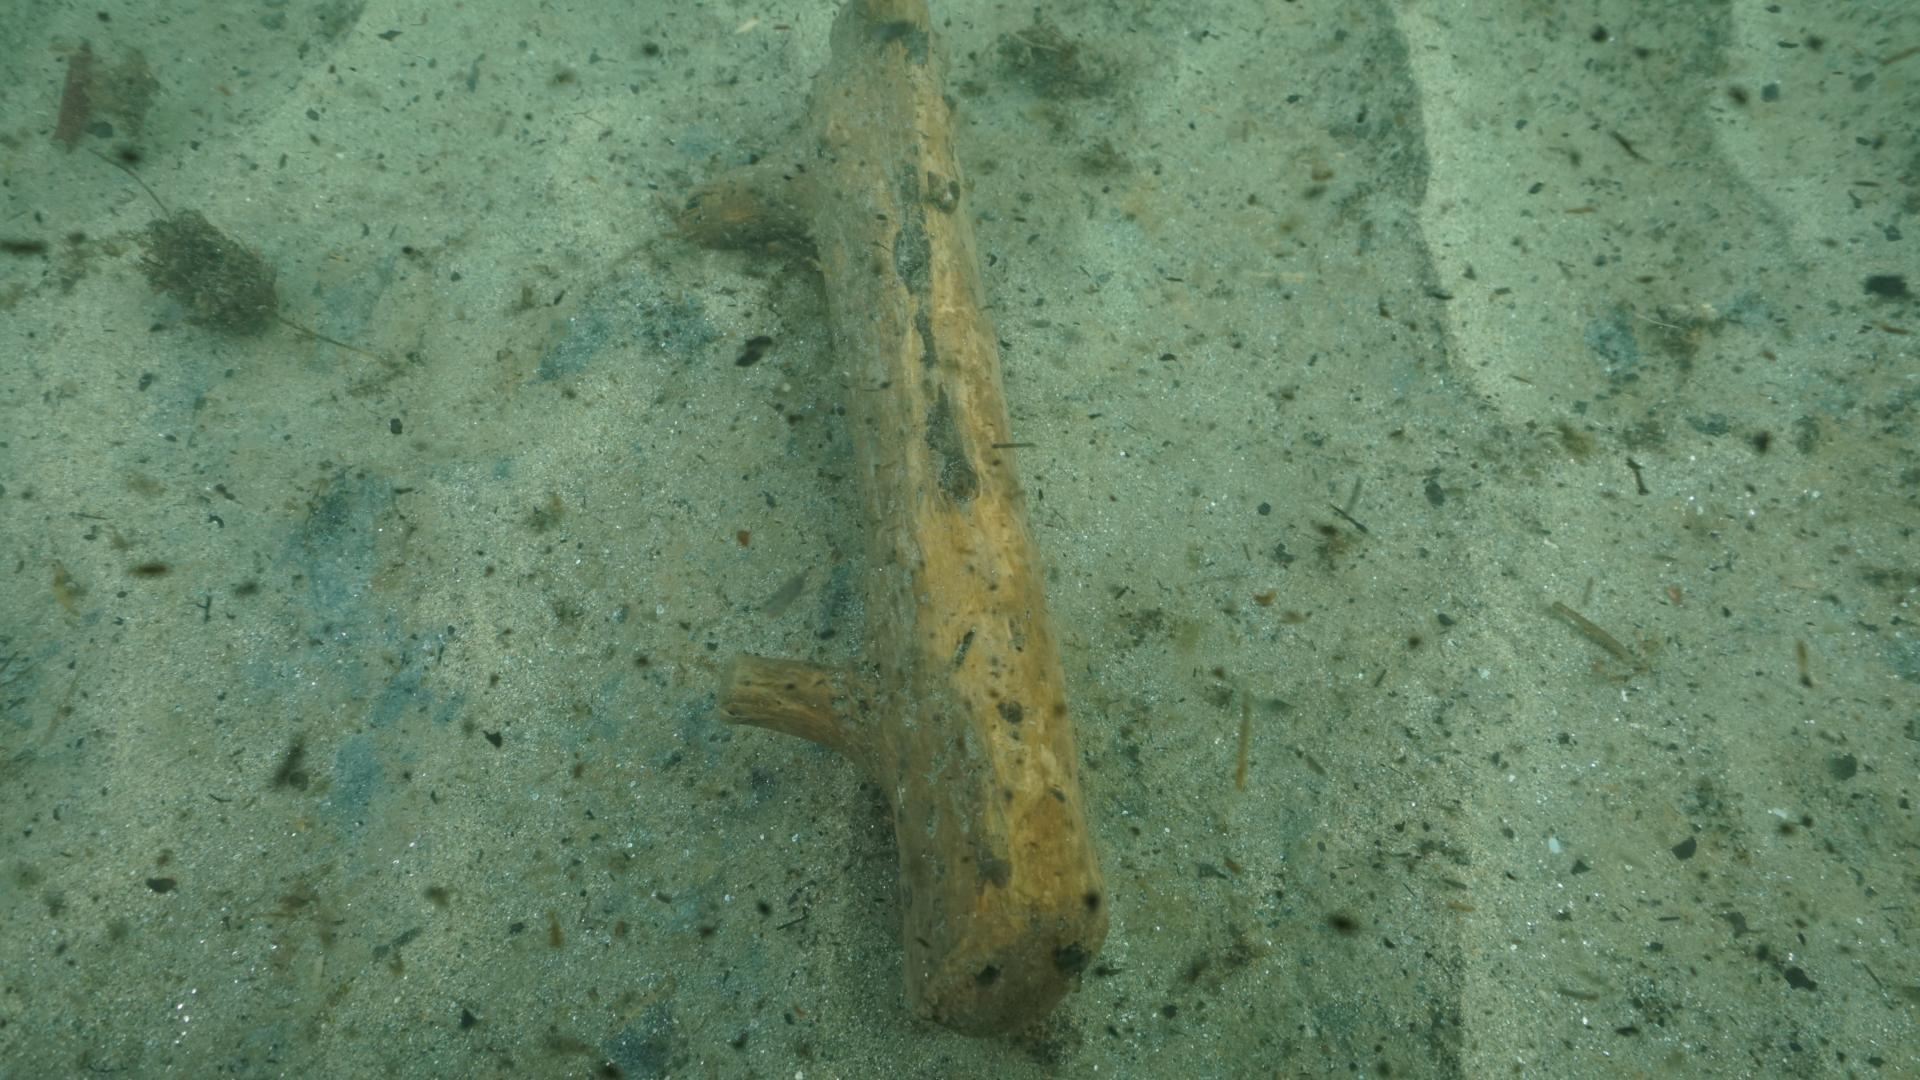wood: (670, 0, 1106, 1038)
